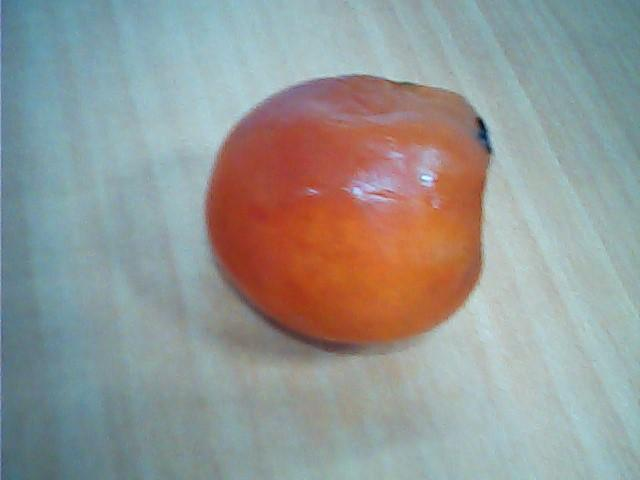defectuoso: (204, 64, 497, 349)
